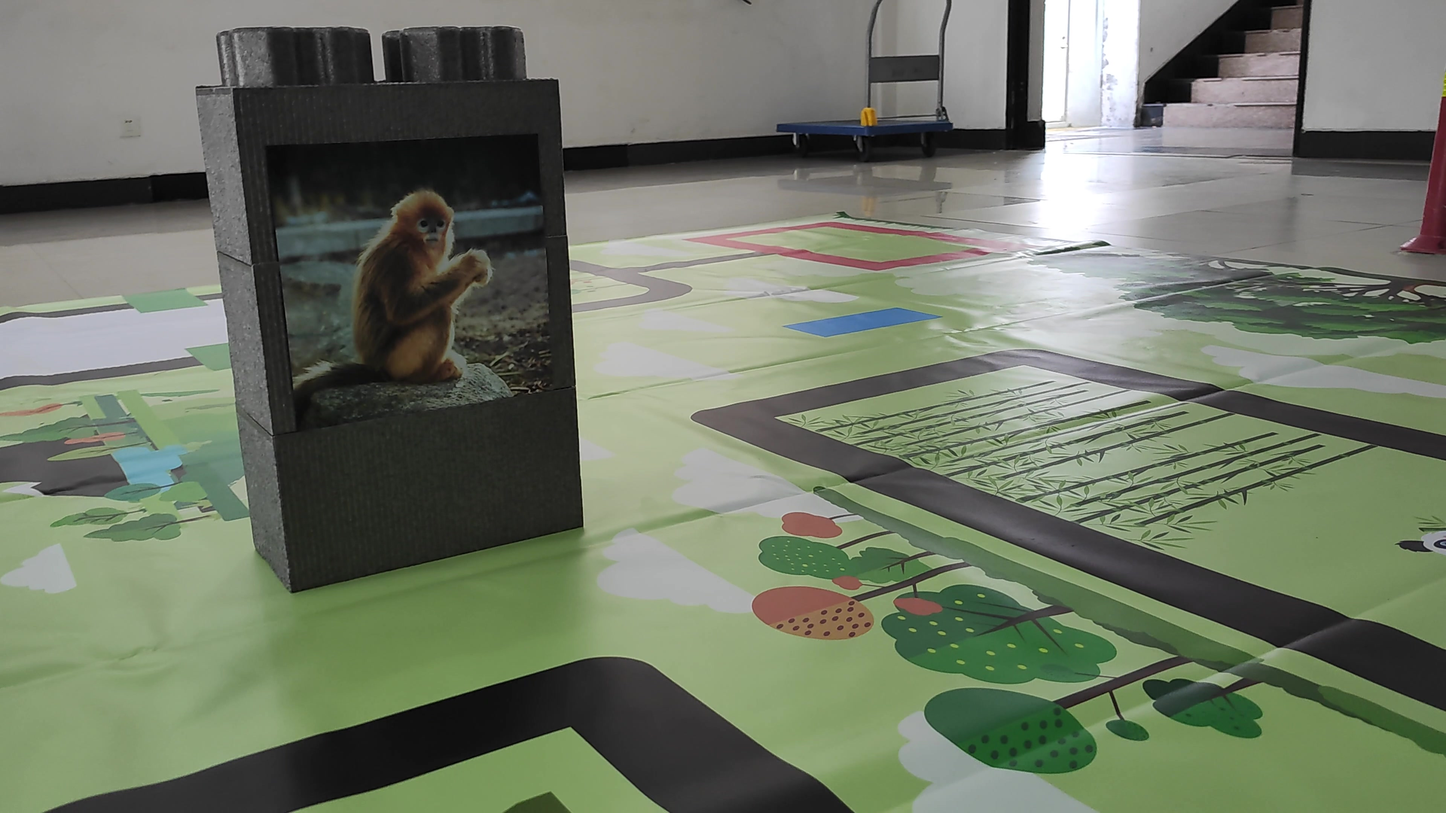monkey: (294, 183, 509, 416)
